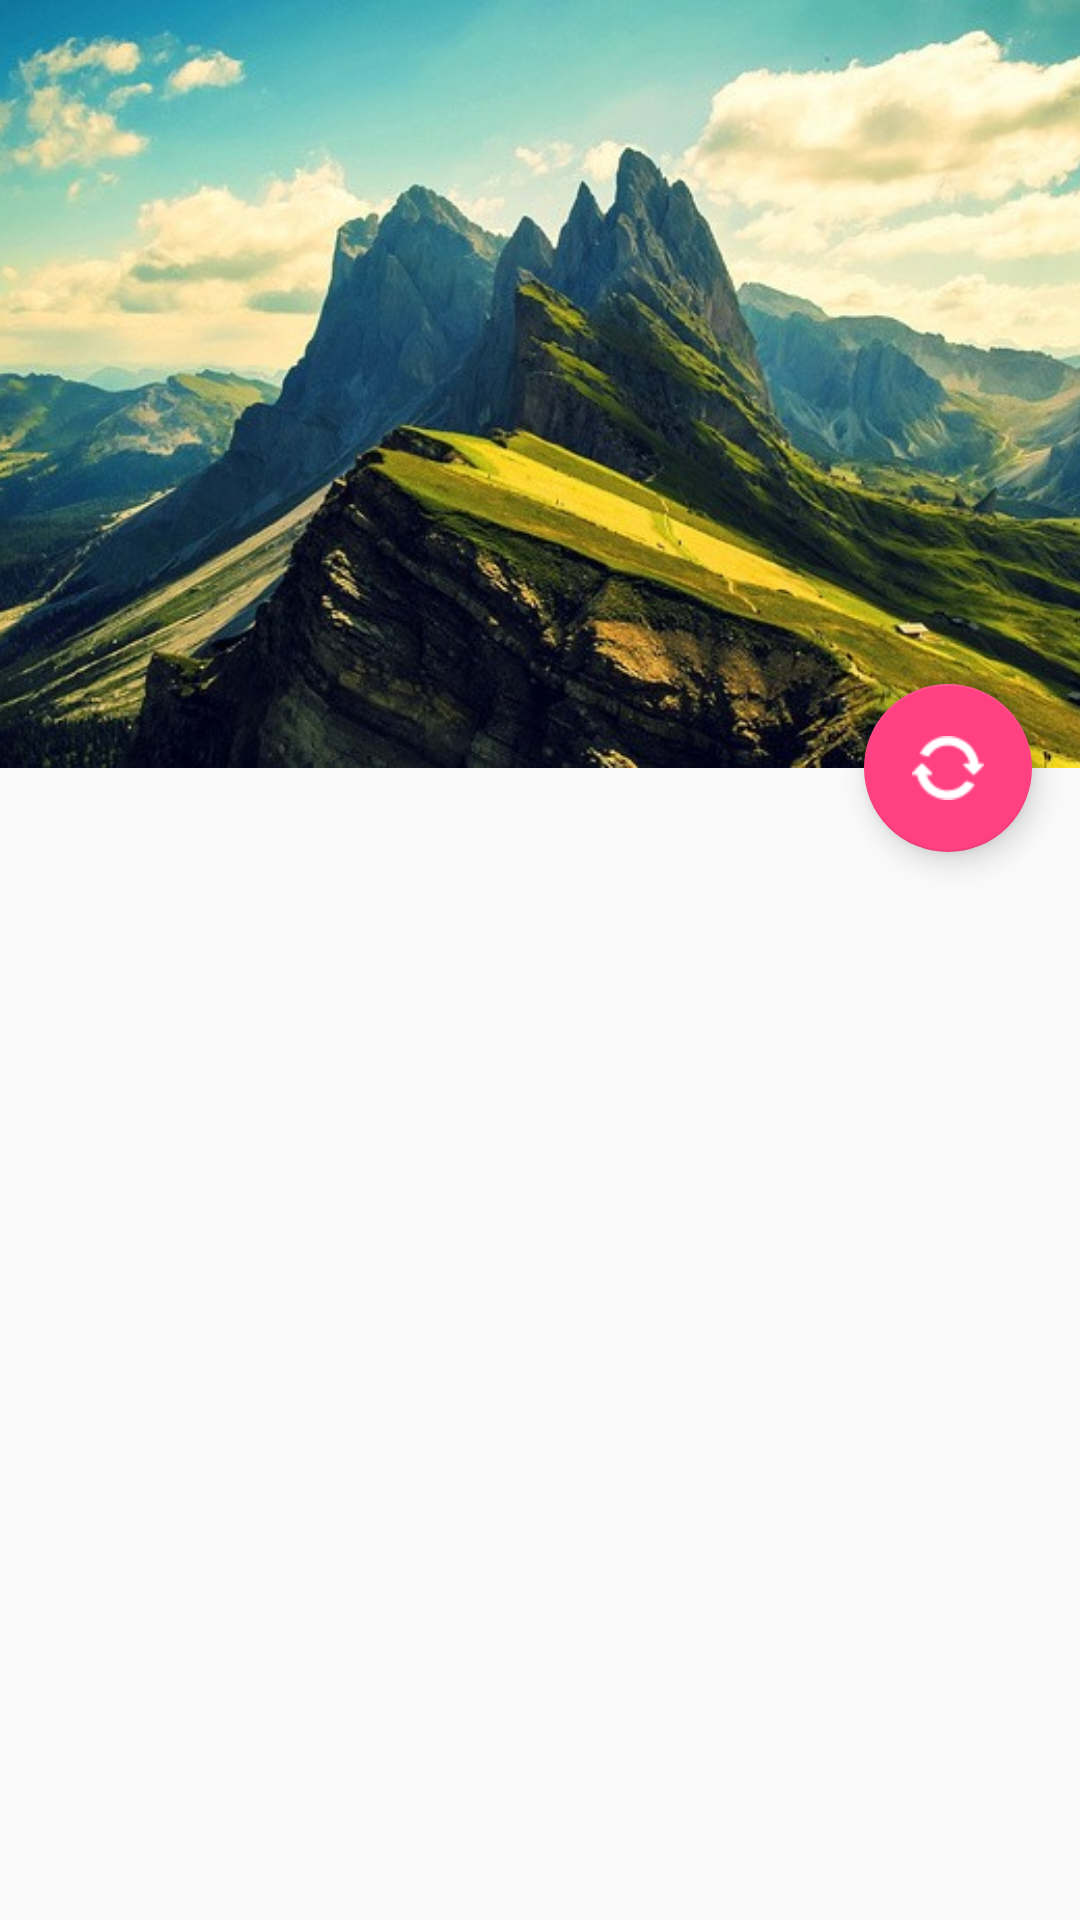

Icons on this 1080px x 1920px Android screen, each with the point to tap as (x,y):
refresh: (948,768)
